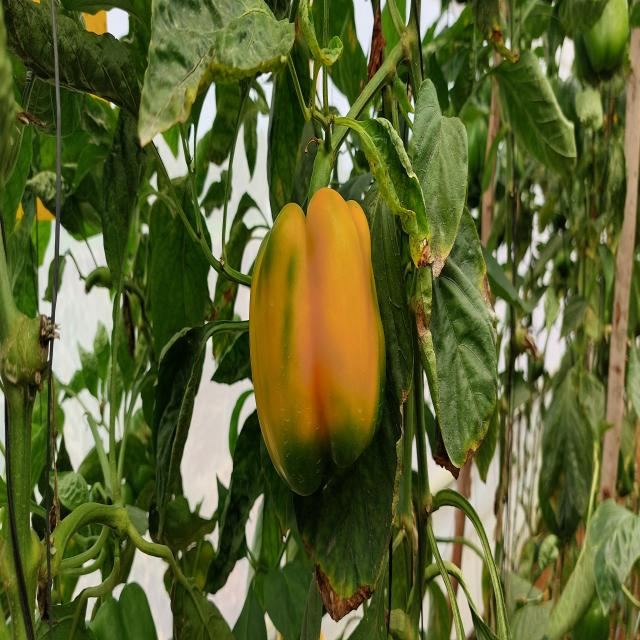Yellow-Ready-to-Harvest: (248, 180, 385, 454)
